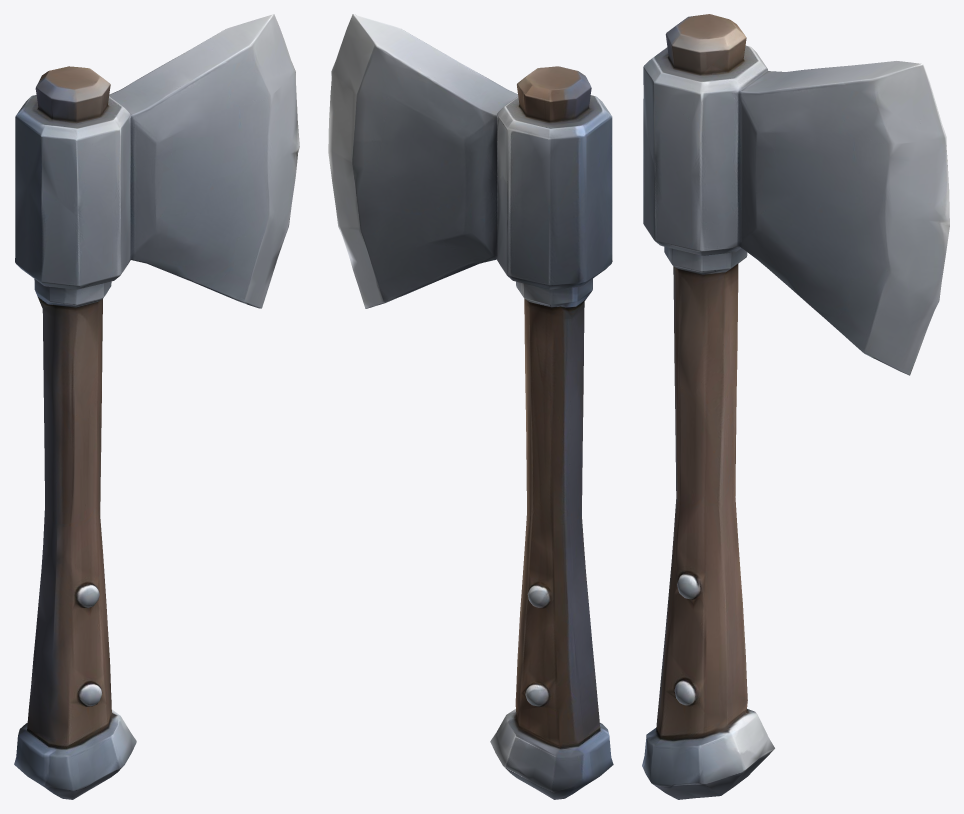
Rendered from w_cleaver--axe.glb.
The picture shows the model from 3 angles, left to right: view 1: azimuth 30°, elevation 25°; view 2: azimuth 150°, elevation 25°; view 3: azimuth 330°, elevation 25°; orthographic projection. The views are drawn at different scales.
Parts seen in each view (by area): view 1: Weapon; view 2: Weapon; view 3: Weapon.
Part boxes in pixels (box(x1,y1,x2,y2)): Weapon: box(14, 14, 299, 799); Weapon: box(328, 14, 613, 799); Weapon: box(642, 14, 949, 799).
Size of the model in its own units: 0.3852 by 0.9799 by 0.1297.
Materials: 1 (1 with a texture image).
